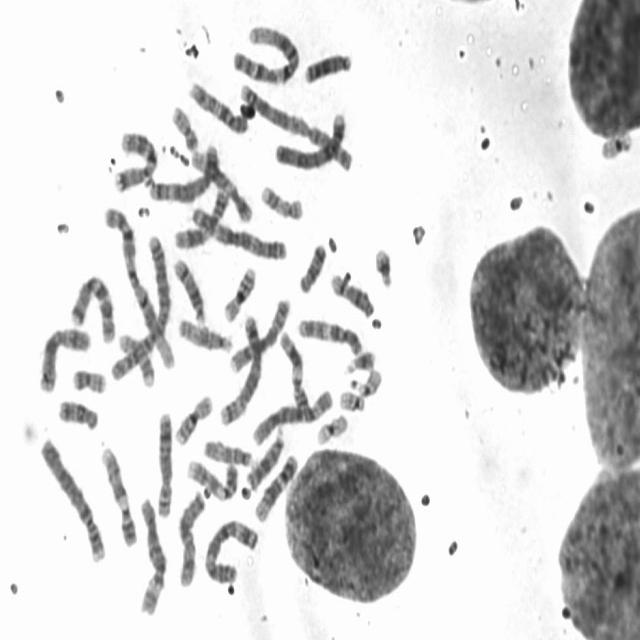A1: (99, 200, 176, 374), (228, 17, 301, 86)
A2: (100, 202, 176, 378), (234, 74, 355, 172)
A3: (186, 198, 289, 262), (200, 510, 260, 586)
B4: (35, 428, 108, 566), (272, 105, 351, 172)
B5: (216, 308, 264, 427), (144, 137, 220, 203)
C10: (184, 73, 251, 136), (294, 310, 364, 357)
C11: (170, 181, 230, 251), (274, 323, 310, 413)
C12: (186, 140, 255, 224), (250, 446, 300, 523)
C6: (248, 380, 335, 447), (133, 488, 168, 618)
C7: (66, 266, 117, 344), (110, 122, 160, 193)
C8: (225, 290, 292, 376), (153, 403, 175, 520)
C9: (96, 438, 139, 548), (182, 450, 240, 502)
D13: (242, 419, 286, 492), (300, 43, 354, 86)
D14: (169, 251, 207, 325), (326, 265, 376, 320)
D15: (174, 310, 234, 354), (200, 431, 254, 468)
E16: (170, 386, 215, 447), (219, 258, 258, 323)
E17: (114, 322, 156, 389), (256, 176, 305, 222)
E18: (294, 234, 328, 295), (54, 391, 100, 432)
F19: (312, 406, 349, 446), (596, 125, 634, 162)
F20: (167, 97, 200, 152), (68, 360, 108, 395)
G21: (370, 240, 395, 290), (341, 343, 377, 375)
G22: (346, 361, 384, 397), (335, 382, 367, 413)
X: (34, 318, 92, 395), (173, 482, 207, 589)
